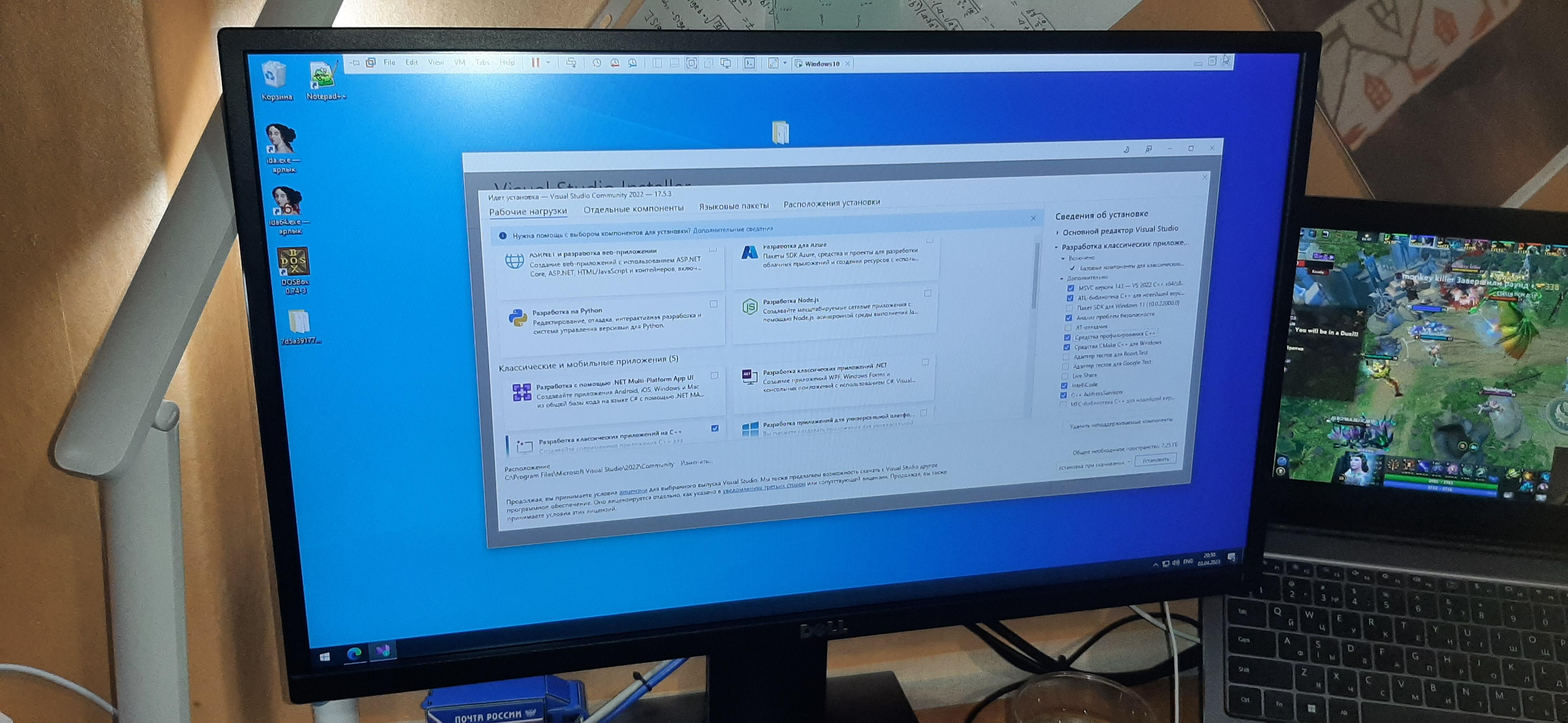monitor: (212, 19, 1320, 706), (1186, 187, 1568, 599)
